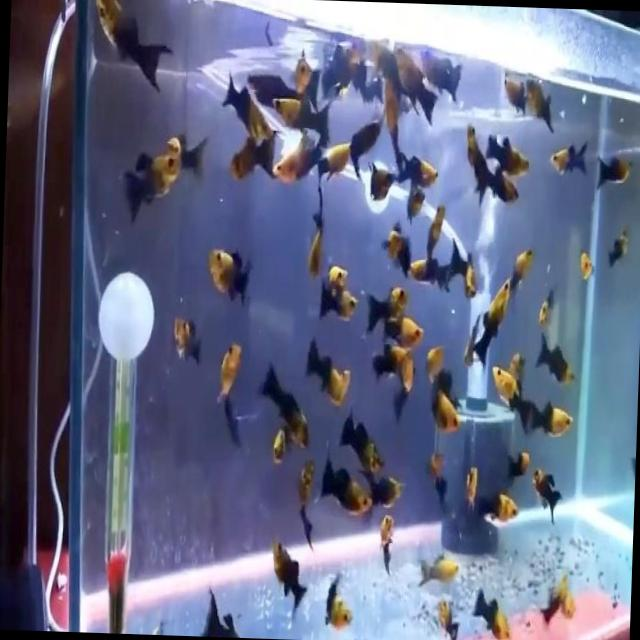PlatyFish: (312, 428, 375, 530), (253, 353, 312, 453), (264, 532, 318, 634), (200, 237, 264, 317), (469, 266, 515, 375), (515, 394, 578, 446), (544, 135, 594, 183)
